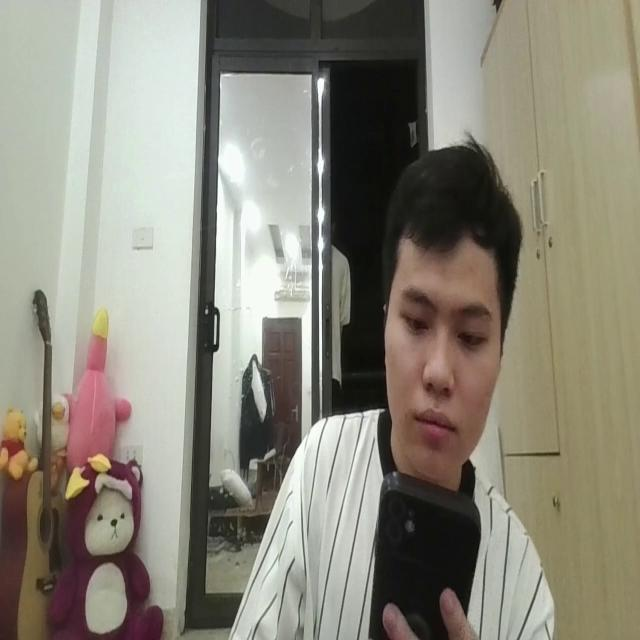phone: (370, 464, 488, 640)
student: (229, 139, 556, 640)
